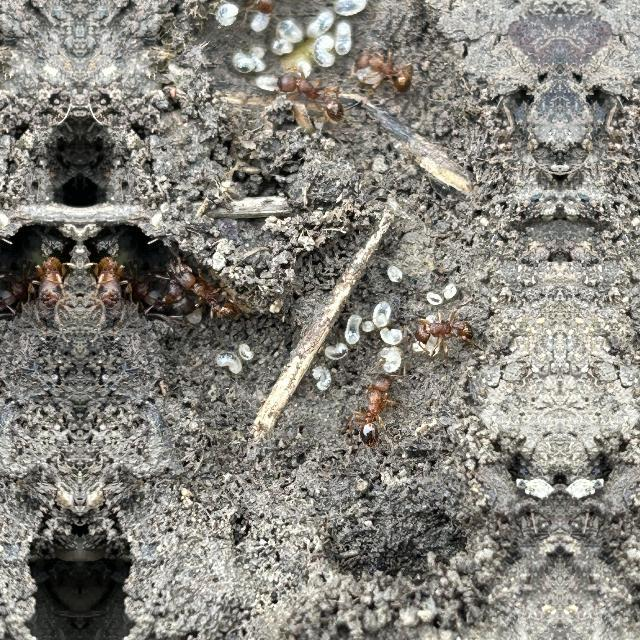Myrmica: (166, 250, 247, 328), (395, 296, 481, 368), (272, 56, 352, 130), (344, 362, 402, 458), (348, 36, 418, 102), (82, 249, 134, 325), (26, 249, 78, 325), (112, 266, 160, 312), (0, 266, 48, 312), (158, 260, 192, 316), (244, 0, 282, 26)
